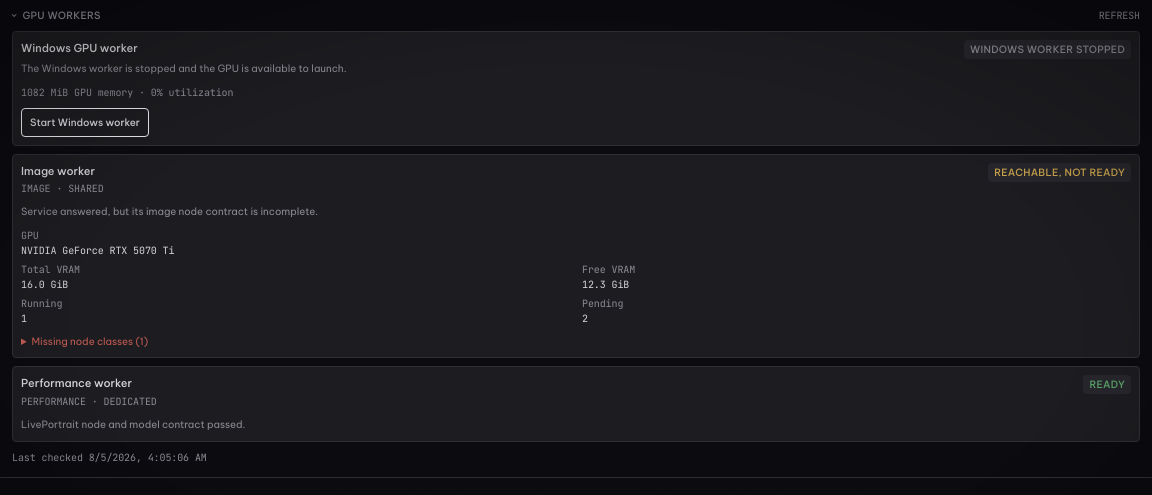
it: GpuWorkersSection › starts the fixed Windows worker with the server-issued control token
The width and height of the screenshot is (1152, 495).
Click the button "Start Windows worker".
click(85, 122)  # box [21,108,149,136]
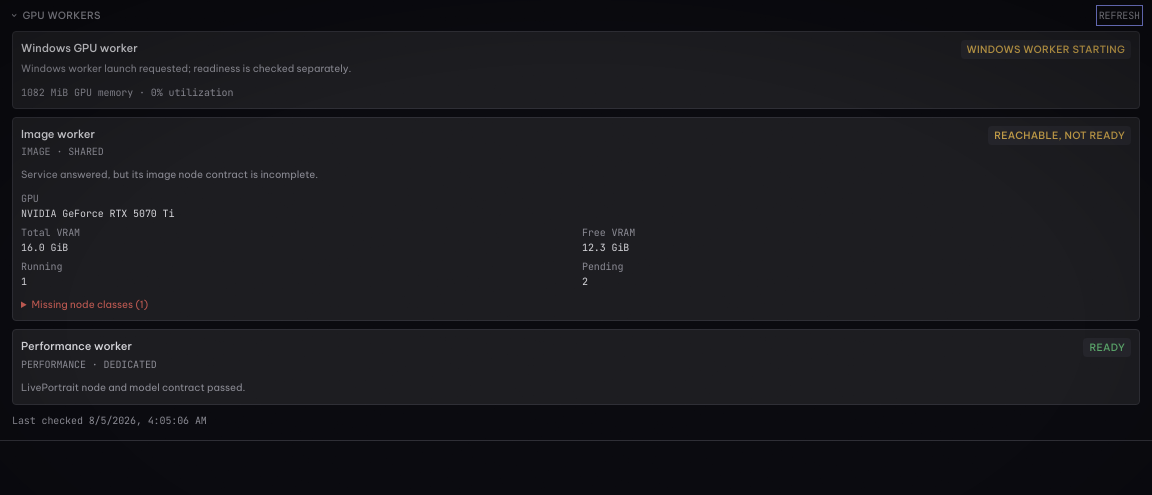
Now the text "Windows worker starting" is shown, box [961,40,1131,59]
